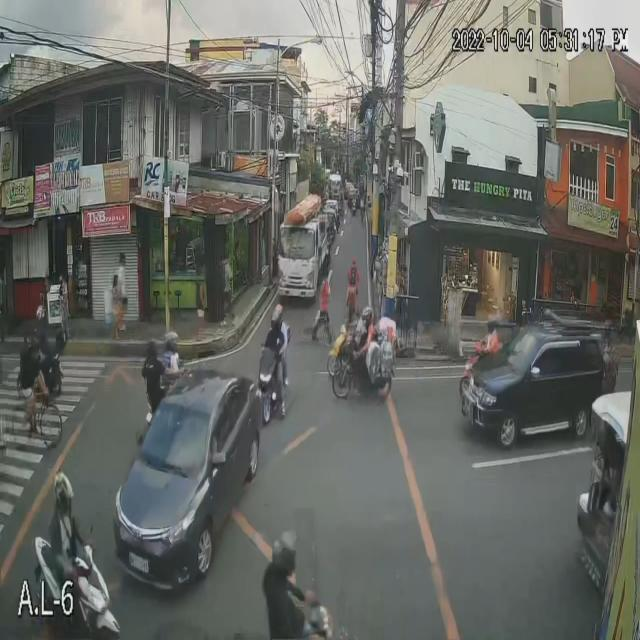full: (53, 470, 74, 514), (166, 331, 178, 354), (362, 306, 374, 324), (146, 340, 158, 357)
half: (270, 529, 299, 577), (270, 311, 280, 331)
